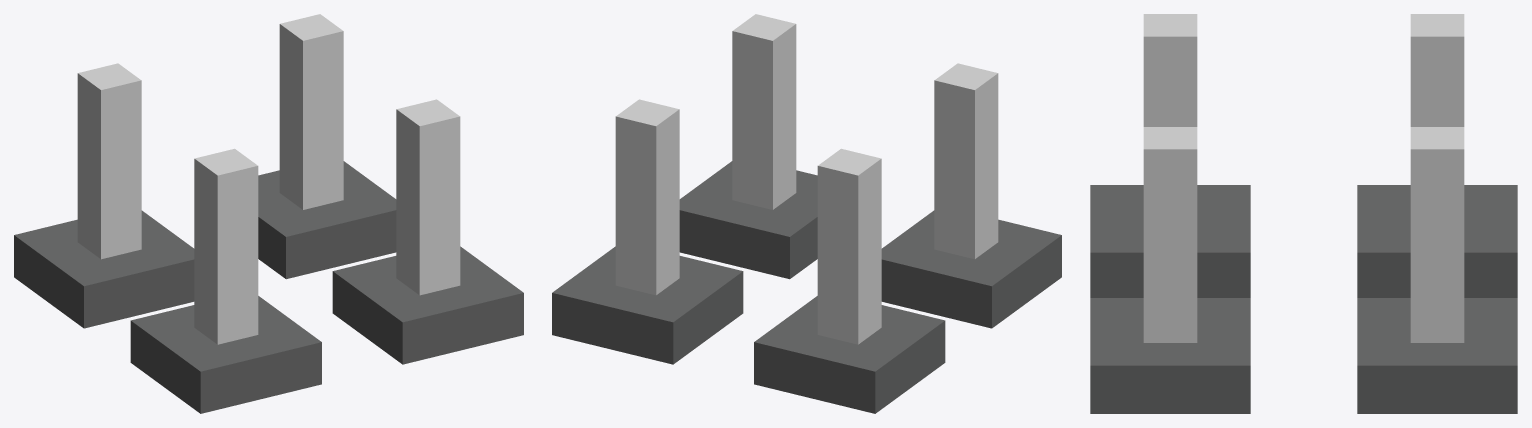
Rendered from spike_1.fbx.
The picture shows the model from 3 angles, left to right: view 1: azimuth 30°, elevation 25°; view 2: azimuth 150°, elevation 25°; view 3: azimuth 270°, elevation 25°; orthographic projection. The views are drawn at different scales.
Visible parts, largest first — view 1: spike_1; view 2: spike_1; view 3: spike_1.
Part boxes in pixels (bbox=[...]): spike_1: bbox=[14, 14, 523, 413]; spike_1: bbox=[552, 14, 1061, 413]; spike_1: bbox=[1090, 14, 1517, 413].
Bounding box in the file's own units: 8 × 5 × 8.
Materials: 1 (1 with a texture image).
